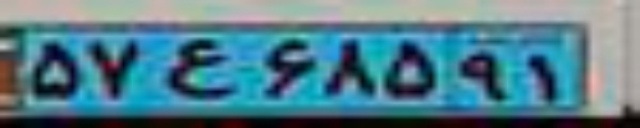1: (521, 53, 560, 102)
5: (381, 40, 442, 100), (30, 42, 80, 101)
6: (259, 38, 318, 98)
7: (86, 38, 142, 101)
8: (322, 39, 377, 98)
9: (458, 52, 508, 104)
ain: (161, 39, 236, 98)
